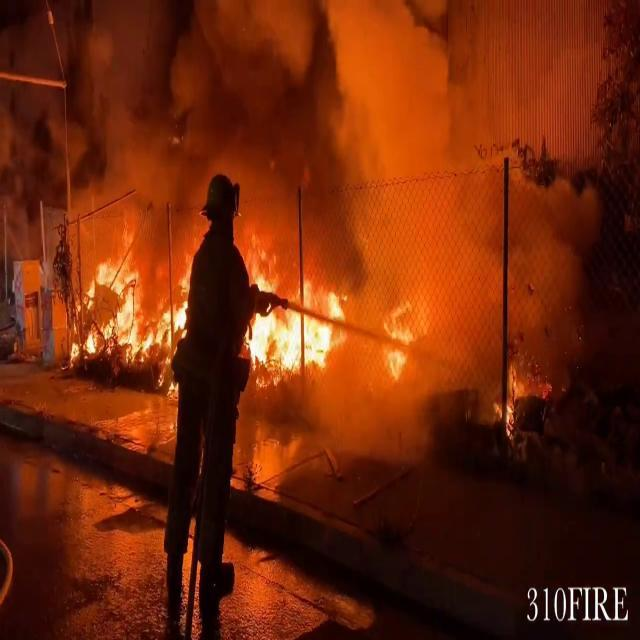Fire: (74, 249, 190, 374), (244, 267, 348, 393)
Smoke: (1, 0, 566, 256)
